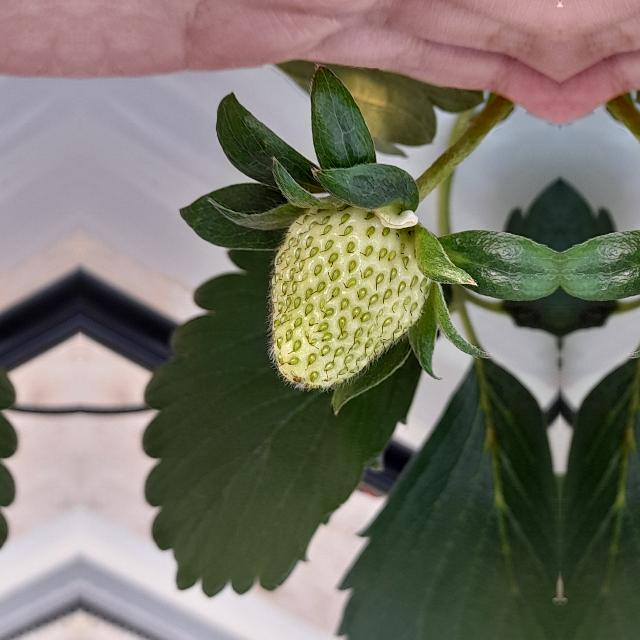Health_25: (264, 208, 432, 394)
